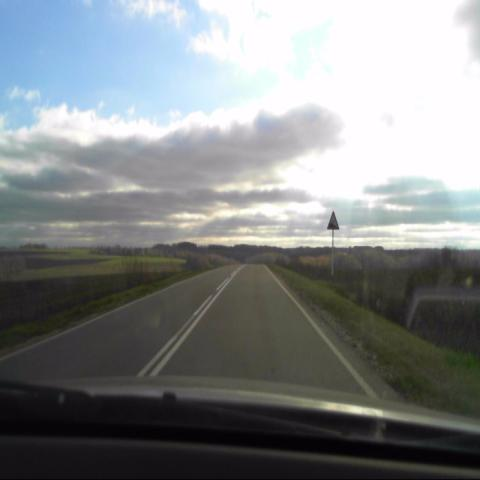1_13: (326, 209, 340, 231)
